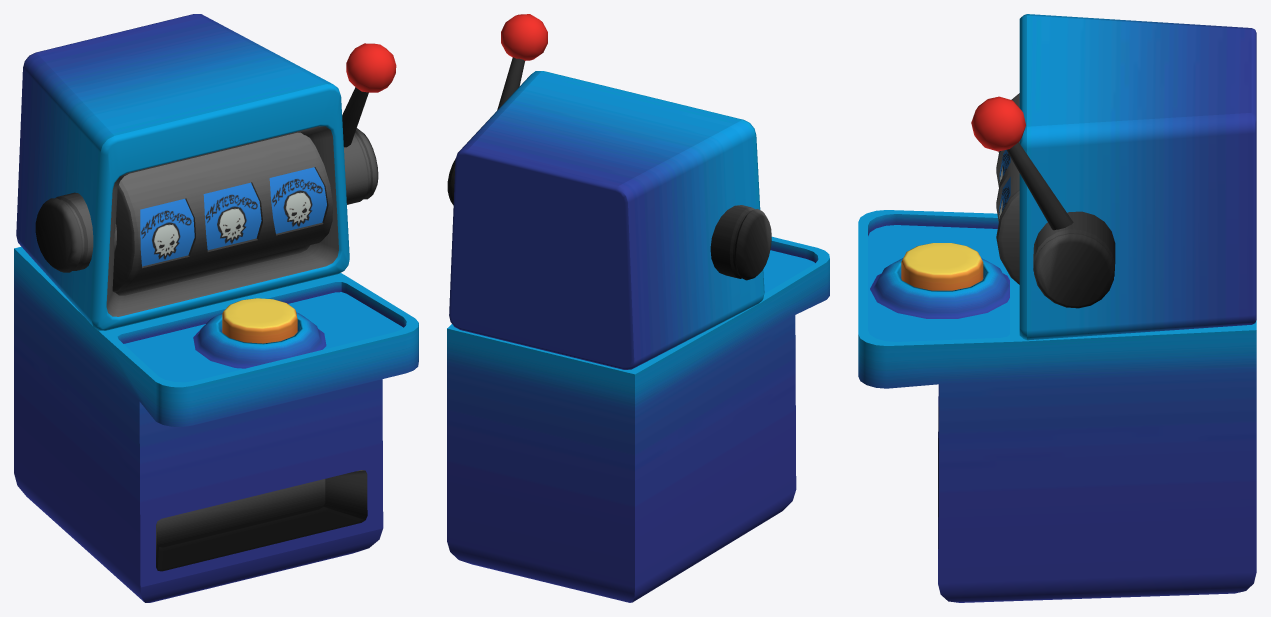
File: laohuji.fbx
3 views of the same model, side by side, from view 1: azimuth 30°, elevation 25°; view 2: azimuth 150°, elevation 25°; view 3: azimuth 270°, elevation 25° (orthographic). The views are drawn at different scales.
Parts seen in each view (by area): view 1: pTorus2, polySurface4; view 2: pTorus2; view 3: pTorus2.
Boxes of the visible parts, <box> form: pTorus2: <box>14,14,418,602</box>; polySurface4: <box>140,167,326,266</box>; pTorus2: <box>447,14,829,602</box>; pTorus2: <box>858,14,1256,602</box>.
Bounding box in the file's own units: 270 × 400 × 275.
2 materials, 2 textured.
